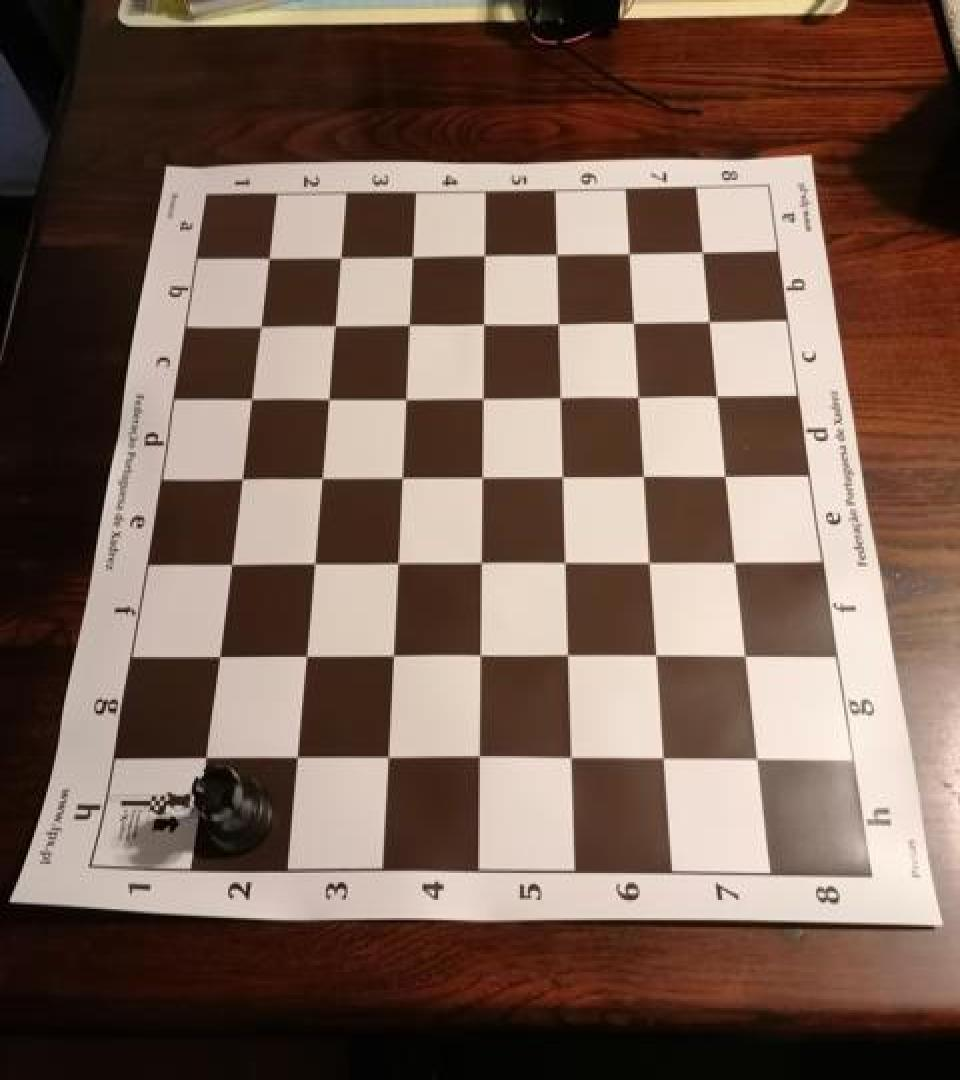xcorner: (721, 545, 753, 582), (634, 545, 666, 582), (548, 545, 580, 582), (463, 545, 495, 582), (378, 544, 410, 581), (294, 544, 326, 581), (211, 544, 243, 581), (648, 742, 680, 779), (554, 741, 586, 778), (687, 236, 719, 272), (614, 238, 646, 274), (540, 238, 572, 274), (467, 240, 499, 276), (395, 240, 427, 276), (323, 241, 355, 277), (251, 242, 283, 278), (695, 305, 727, 341), (618, 306, 650, 342), (542, 306, 574, 342), (466, 307, 498, 343), (391, 308, 423, 344), (316, 308, 348, 344), (242, 310, 274, 346), (703, 379, 735, 415), (623, 379, 655, 415), (544, 380, 576, 416), (465, 380, 497, 416), (387, 380, 419, 416), (310, 382, 342, 418), (233, 382, 265, 418), (712, 459, 744, 495), (629, 459, 661, 495), (546, 459, 578, 495), (464, 459, 496, 495), (383, 459, 415, 495), (302, 460, 334, 496), (222, 460, 254, 496), (732, 640, 764, 676), (641, 640, 673, 676), (551, 639, 583, 675), (462, 639, 494, 675), (373, 638, 405, 674), (285, 638, 317, 674), (199, 637, 231, 673), (743, 744, 775, 780), (460, 740, 492, 776), (368, 739, 400, 775), (276, 739, 308, 775), (185, 738, 217, 774)
